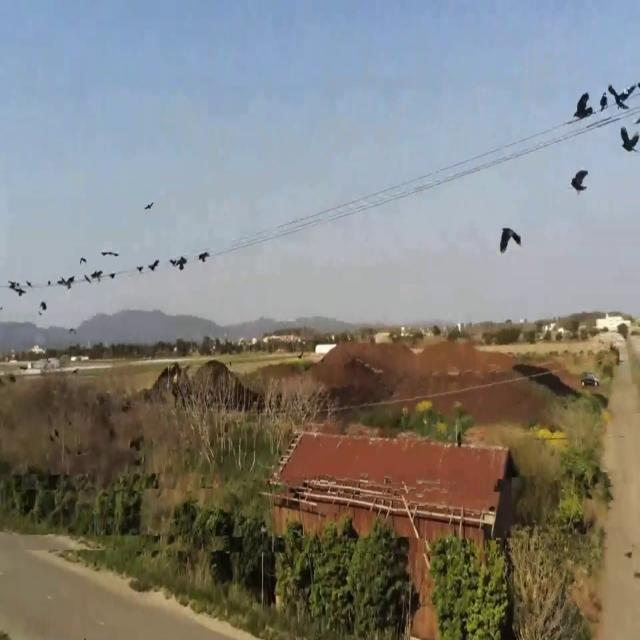bird: (499, 216, 521, 262), (620, 122, 640, 163), (574, 82, 591, 127), (570, 159, 588, 200), (9, 274, 29, 301), (170, 249, 188, 276), (87, 263, 102, 289), (60, 269, 75, 295), (198, 244, 210, 267), (149, 255, 159, 279), (39, 296, 47, 318), (145, 196, 154, 215)
